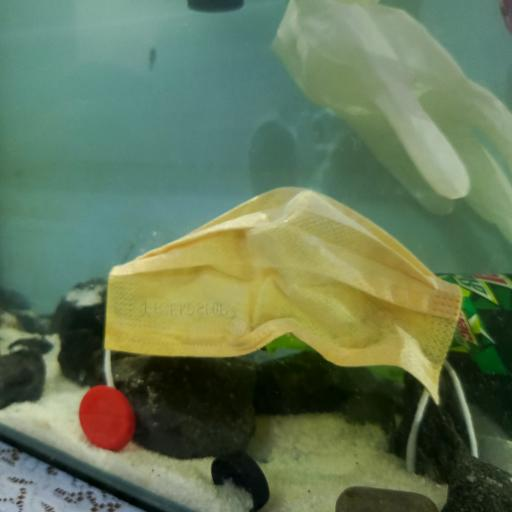bottle_cap: (79, 383, 135, 453), (211, 450, 270, 512), (188, 2, 244, 13)
glove: (272, 2, 512, 244)
mask: (102, 186, 469, 411)
plastic_bottle: (255, 269, 512, 378)
